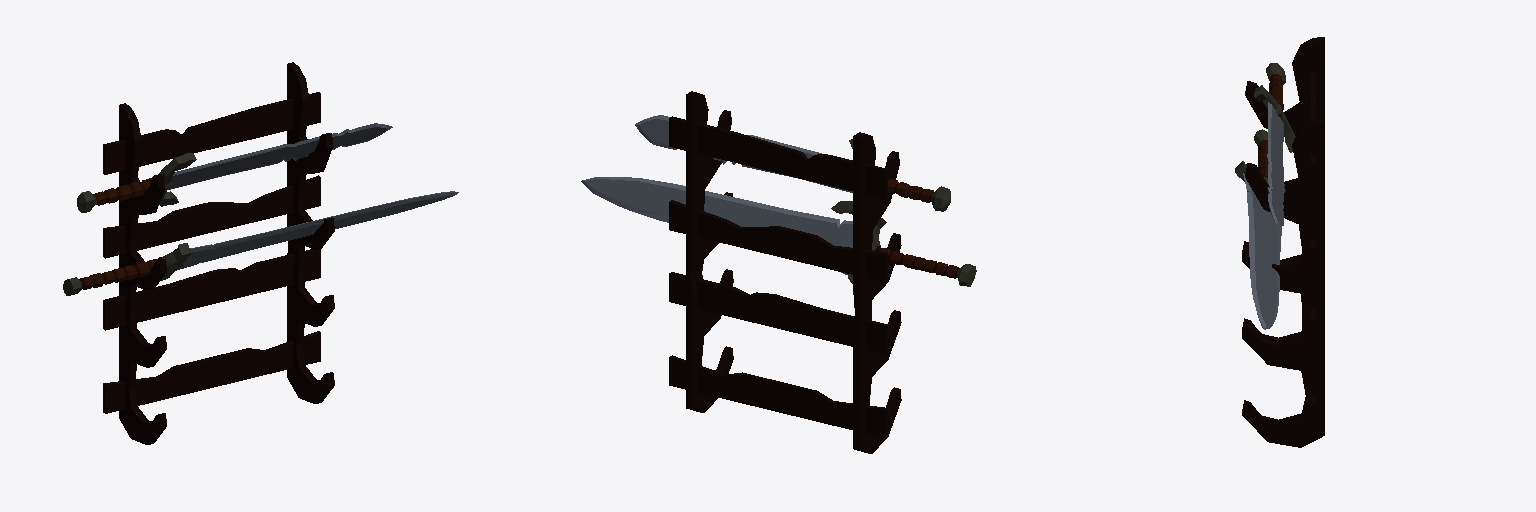
File: Sword_WallMount.obj
3 views of the same model, side by side, from view 1: azimuth 30°, elevation 25°; view 2: azimuth 150°, elevation 25°; view 3: azimuth 270°, elevation 25° (orthographic).
Parts seen in each view (by area): view 1: Sword_WallMount.001; view 2: Sword_WallMount.001; view 3: Sword_WallMount.001.
Part boxes in pixels (x1,y1,x2,y2): Sword_WallMount.001: (63,62,458,444); Sword_WallMount.001: (581,91,976,453); Sword_WallMount.001: (1235,37,1324,447).
Size of the model in its own units: 1.07 by 0.8471 by 0.2117.